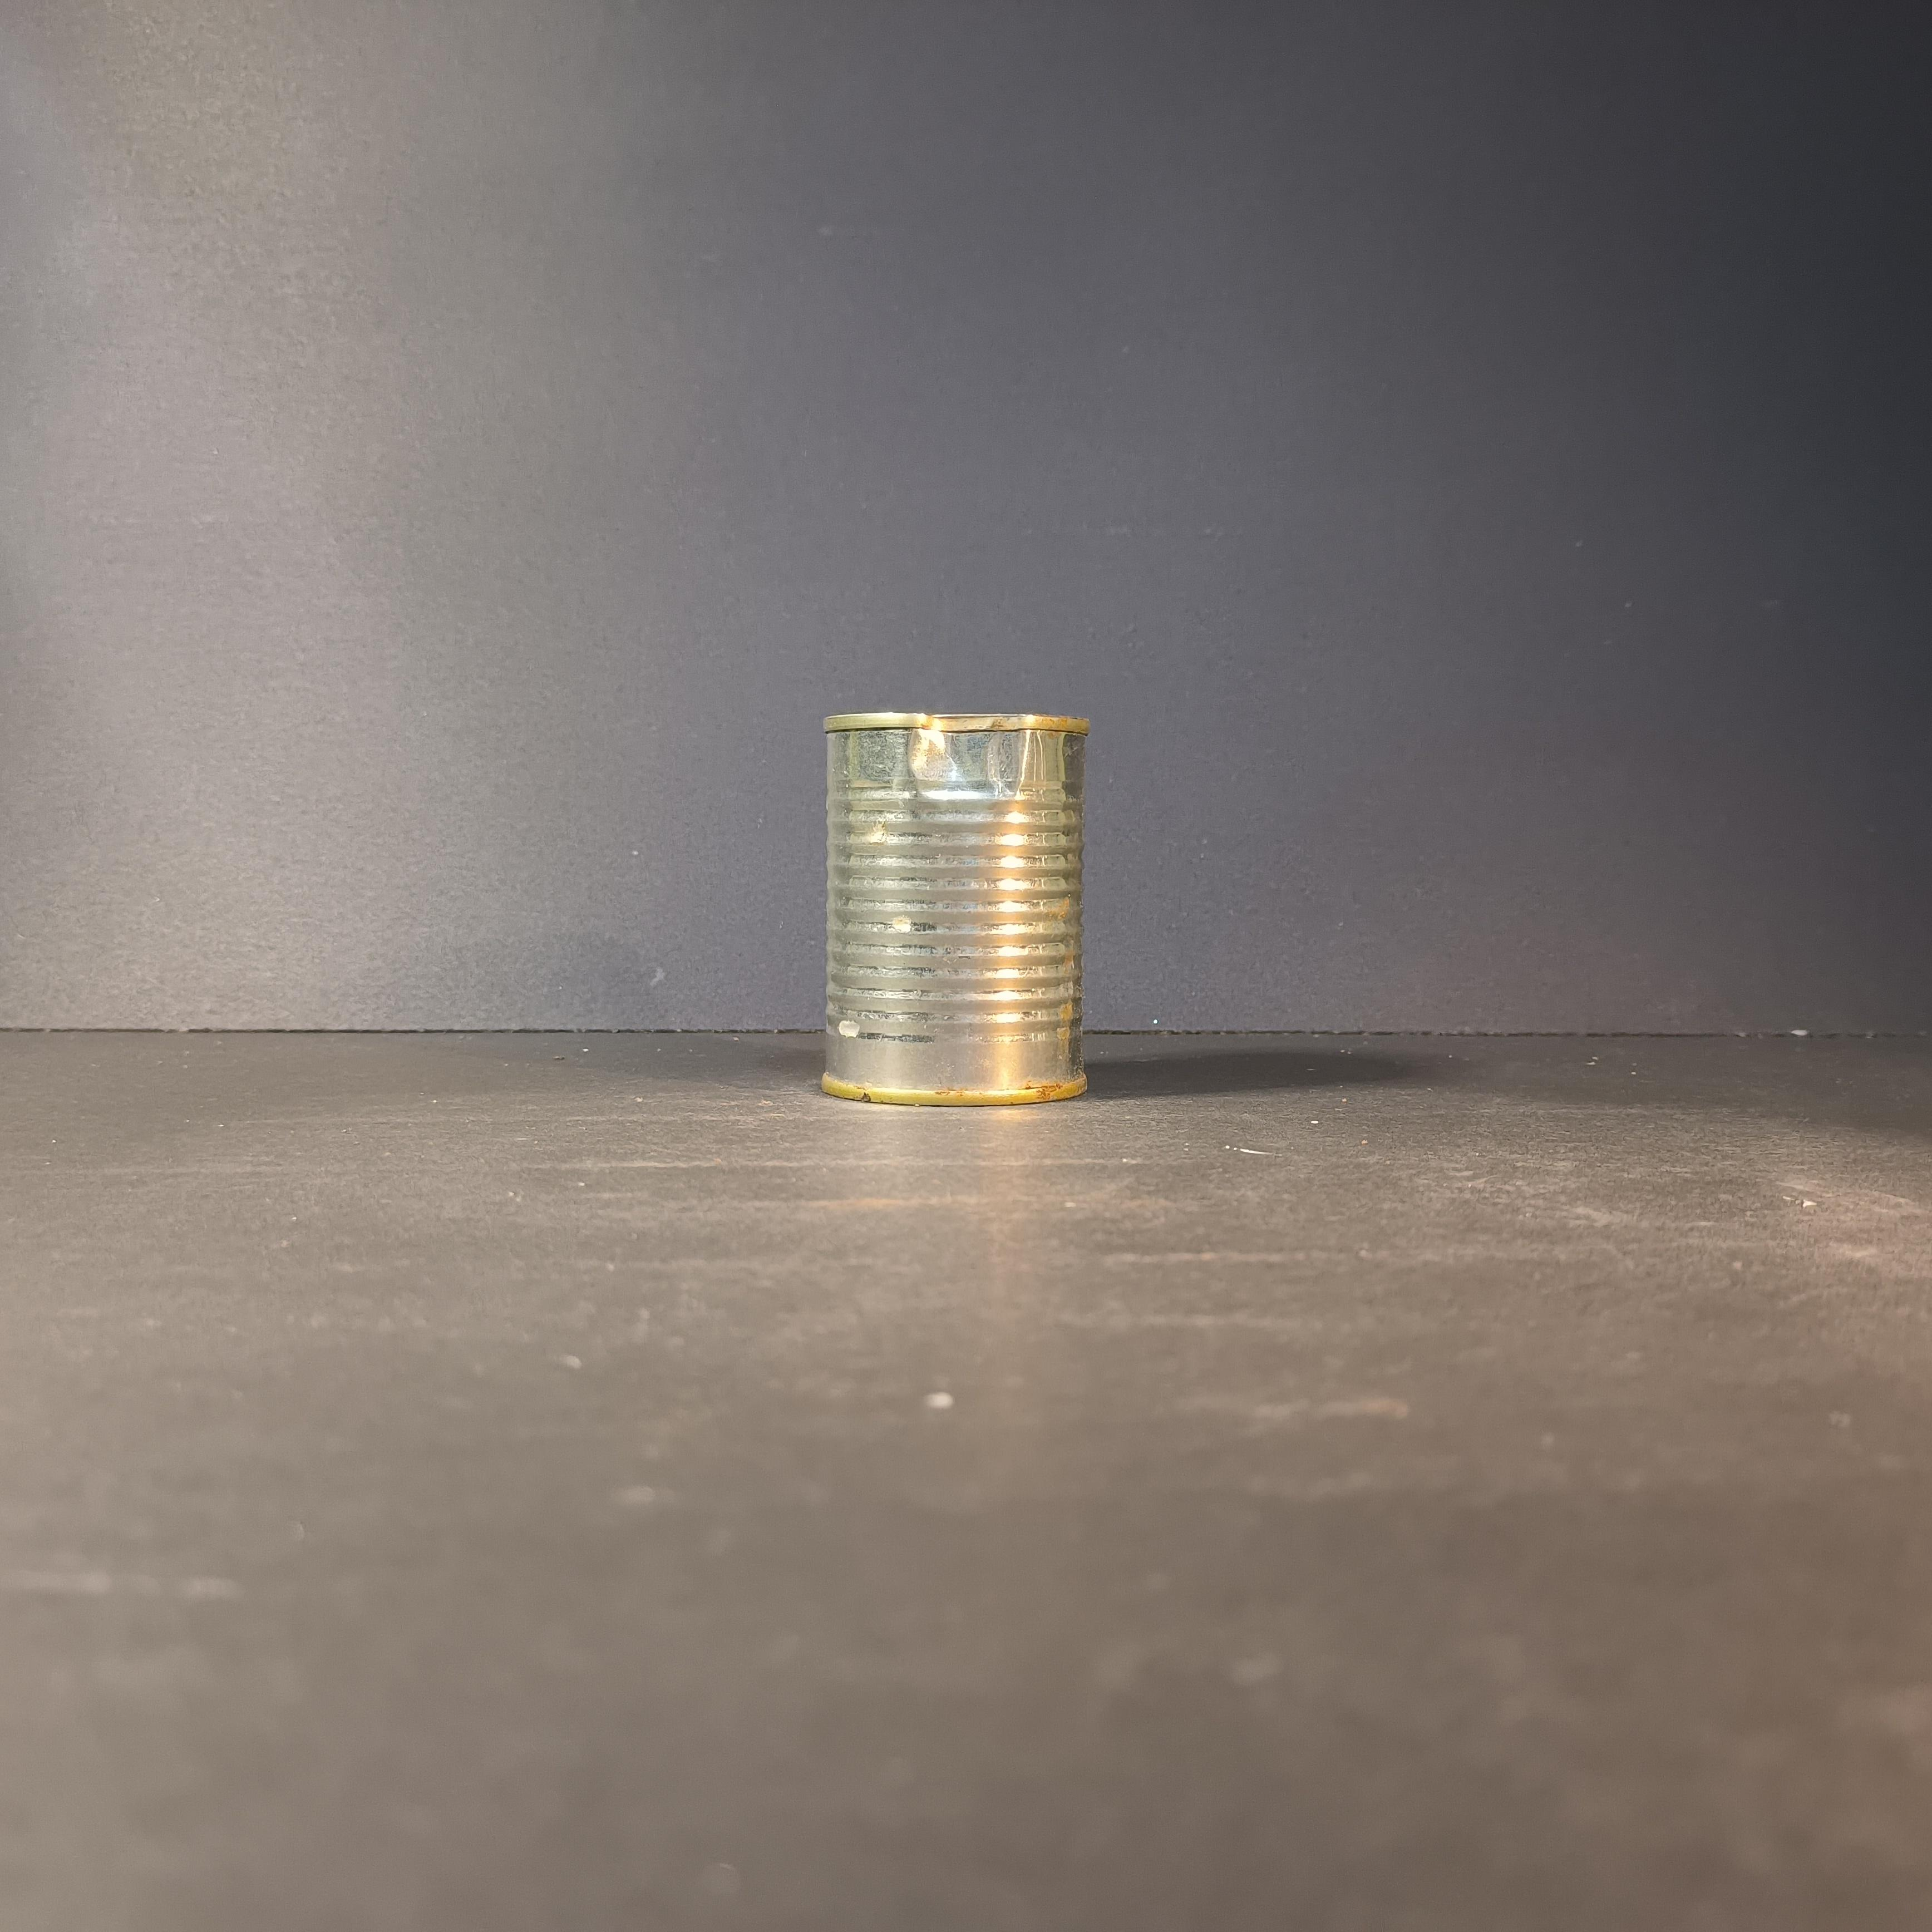Critical Defect: (821, 711, 1092, 1109)
